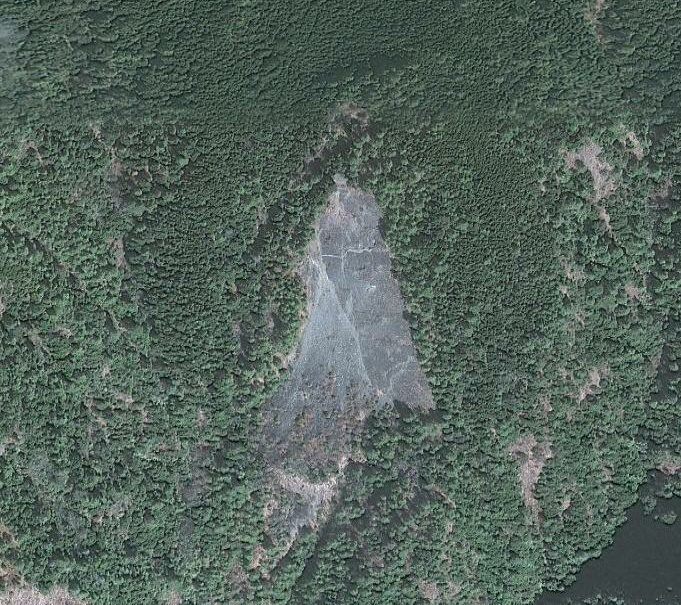slope: (236, 166, 440, 563)
